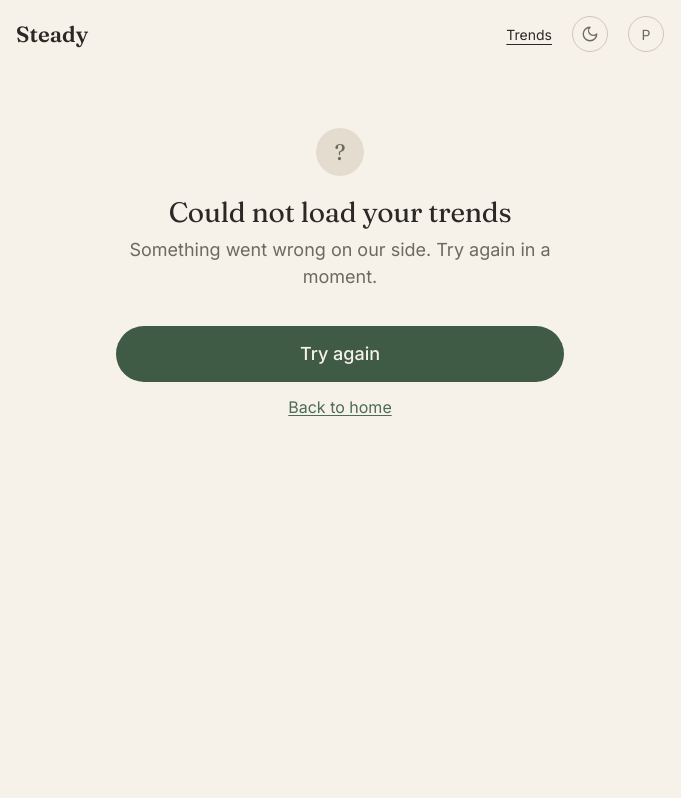
Test: Spec 010 §3: errors in plain words › Progress that cannot load is a status page, without the raw server message
Check: the heading "Could not load your trends" is shown, box top-left (169, 196), bottom-right (511, 228)
Check: the message reads "Something went wrong on our side. Try again in a moment.", box top-left (129, 239), bottom-right (551, 287)
Click the button "Try again" at (340, 354), box top-left (116, 326), bottom-right (564, 382)
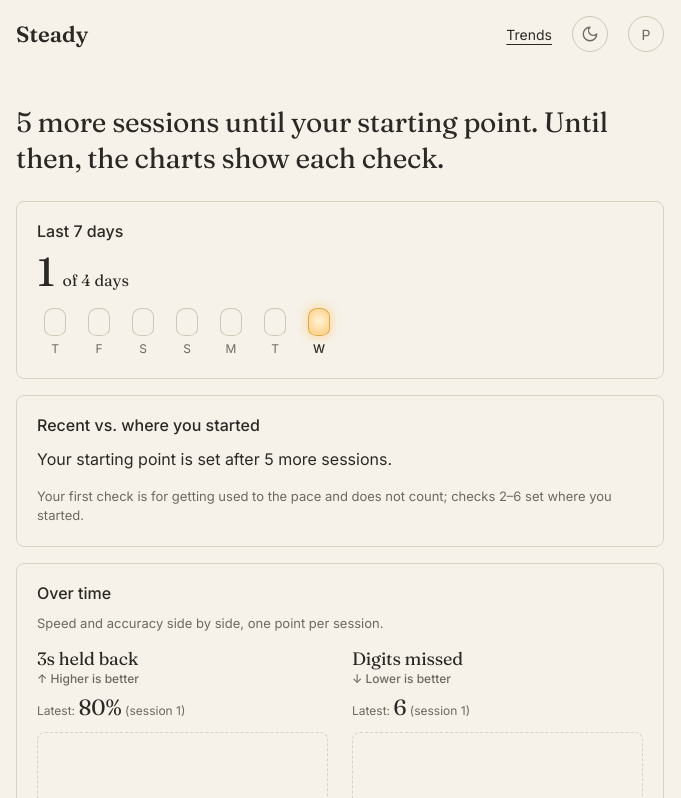
Check: the text with test id "summary" is shown, box top-left (16, 104), bottom-right (664, 177)
